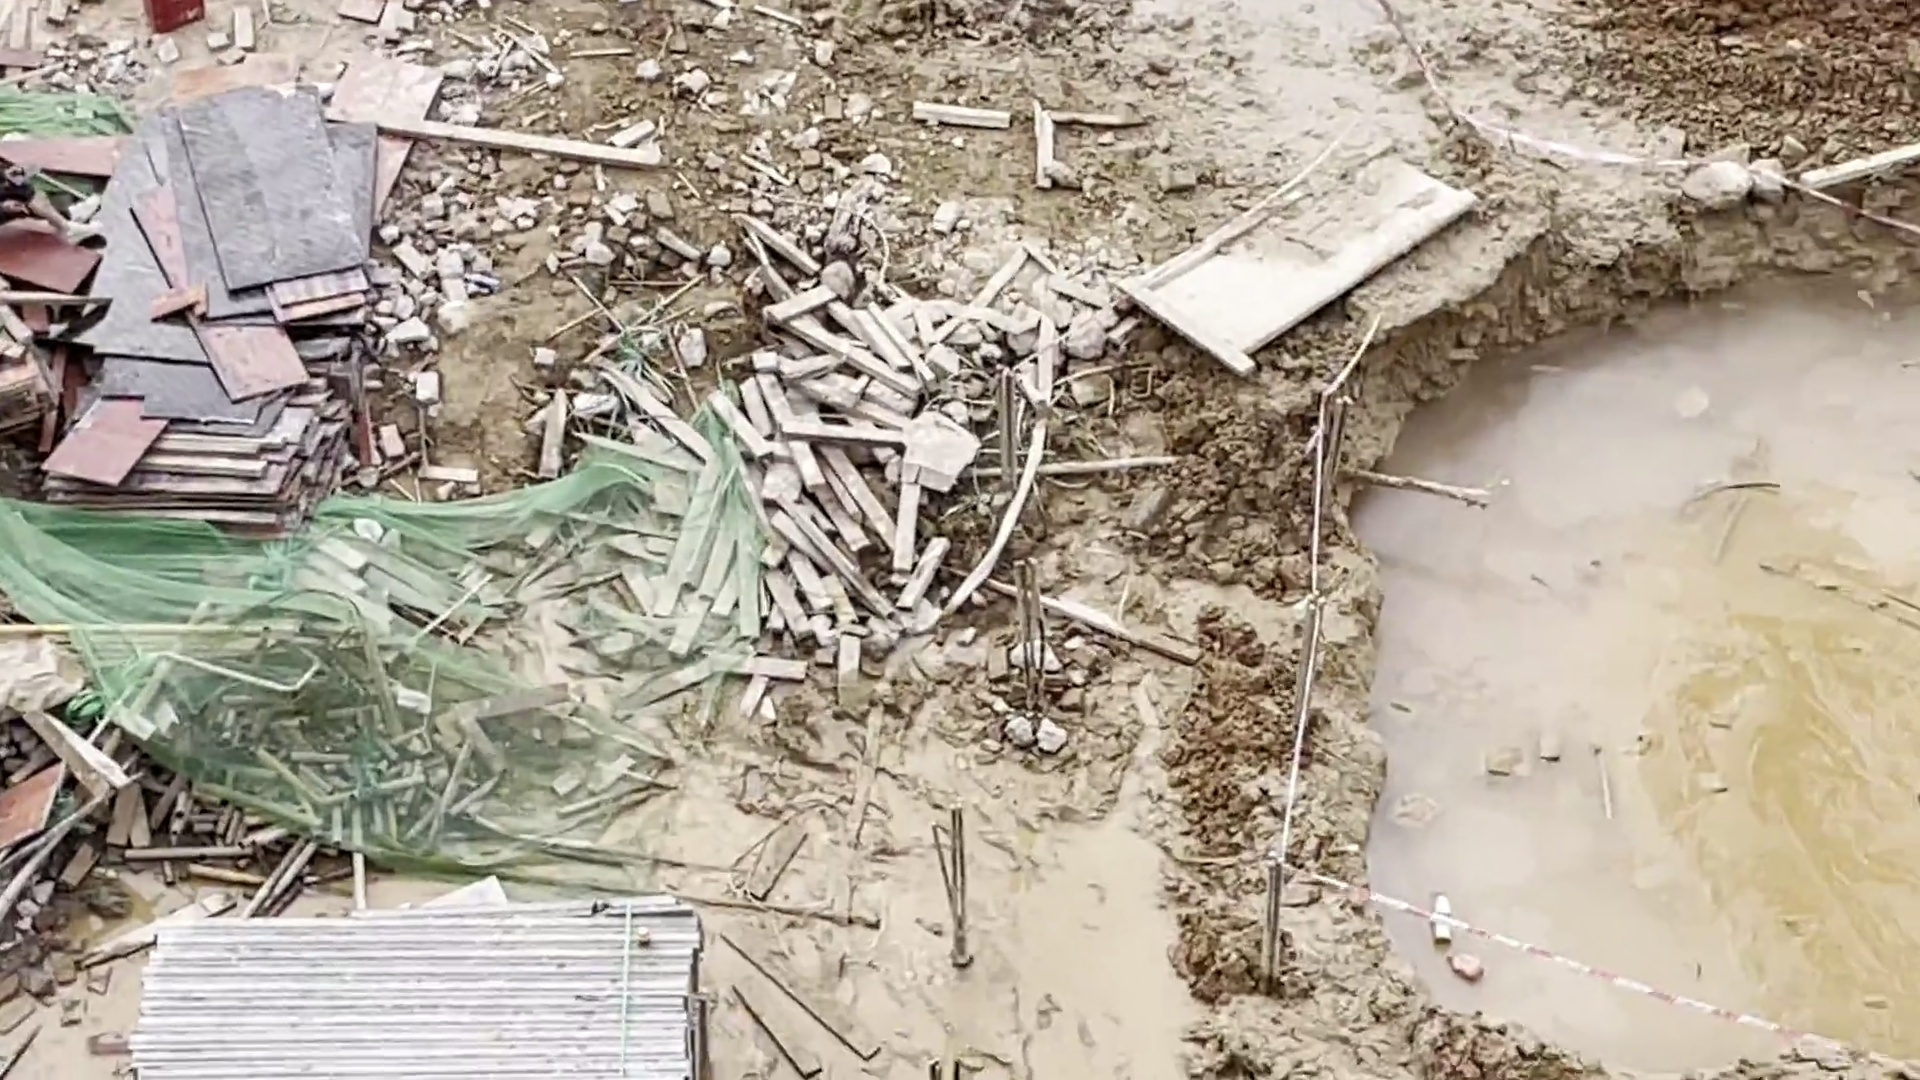board: (109, 80, 343, 545)
